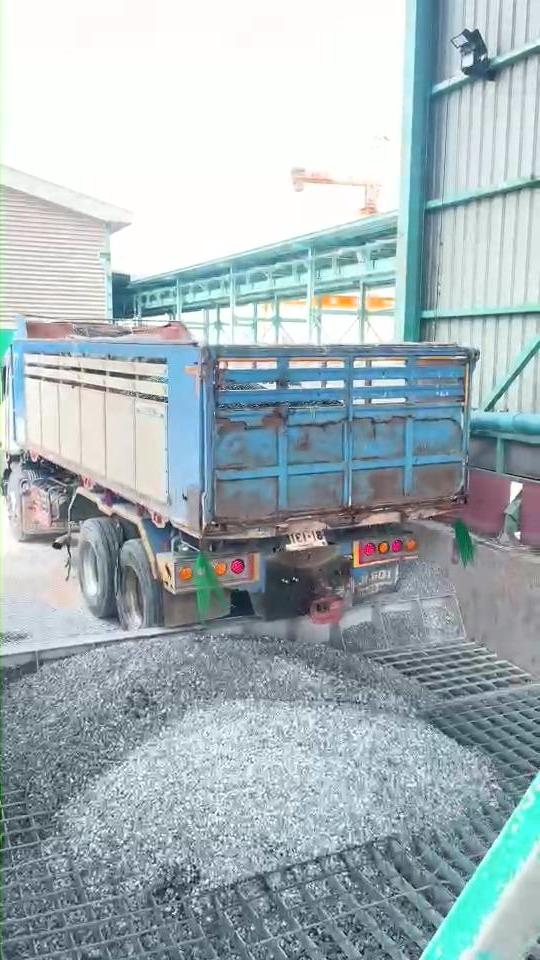gravel: (6, 628, 494, 886)
